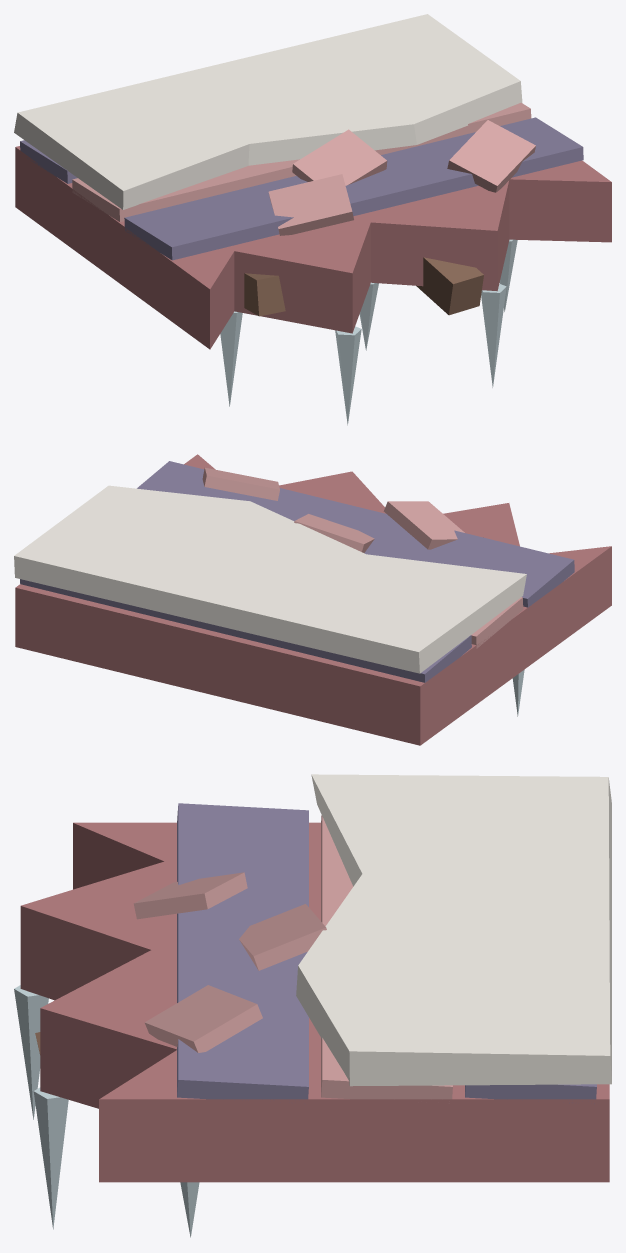
Rendered from sb_roof_gap_edge.glb.
The picture shows the model from 3 angles, top to bottom: view 1: azimuth 30°, elevation 25°; view 2: azimuth 150°, elevation 25°; view 3: azimuth 270°, elevation 25°; orthographic projection. The views are drawn at different scales.
Parts seen in each view (by area): view 1: roof_gap_edge; view 2: roof_gap_edge; view 3: roof_gap_edge.
Part boxes in pixels (x1=…): roof_gap_edge: x1=14, y1=14, x2=611, y2=425; roof_gap_edge: x1=14, y1=454, x2=611, y2=745; roof_gap_edge: x1=14, y1=774, x2=611, y2=1237.
Size of the model in its own units: 1.01 by 0.4595 by 0.9137.
